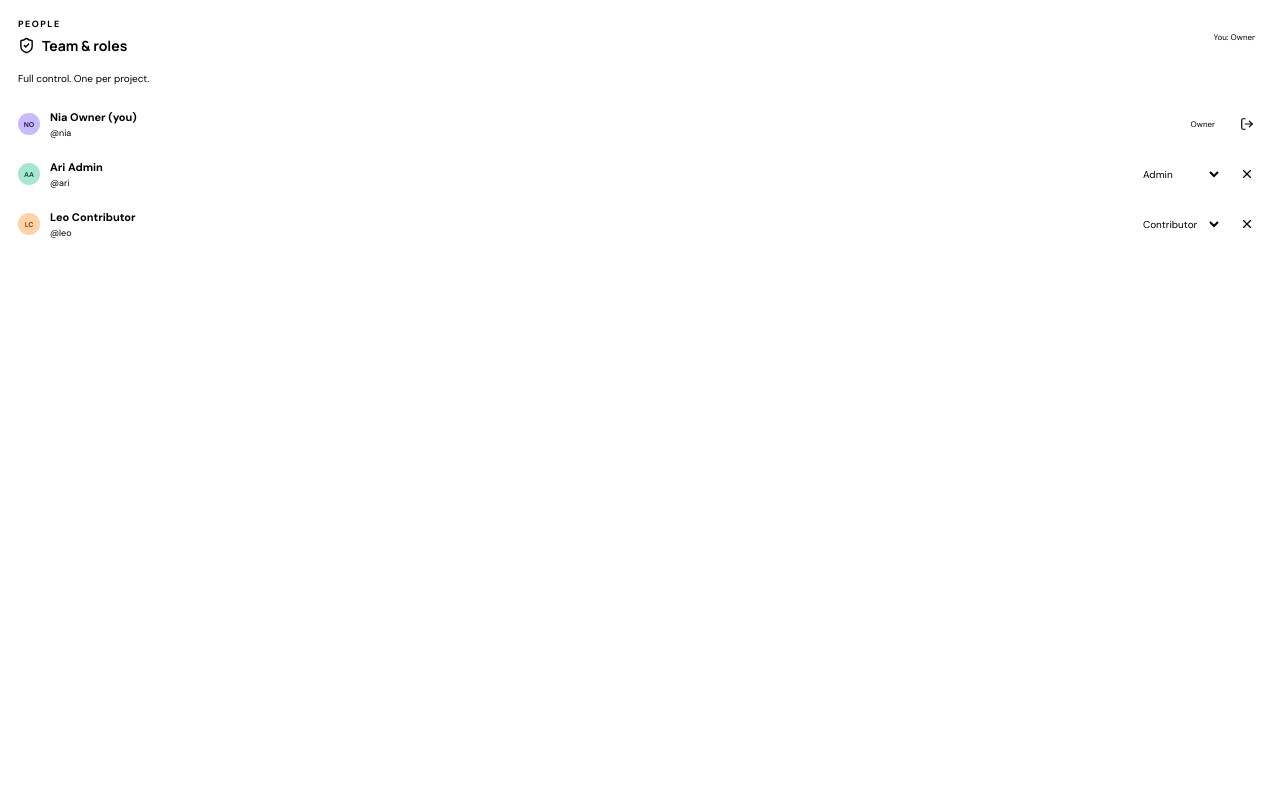
Test case: Remove a member (US-13) › asks for confirmation and does nothing when cancelled
Click the button named "Remove Leo Contributor": point(1247, 224) [1232,209,1262,239]
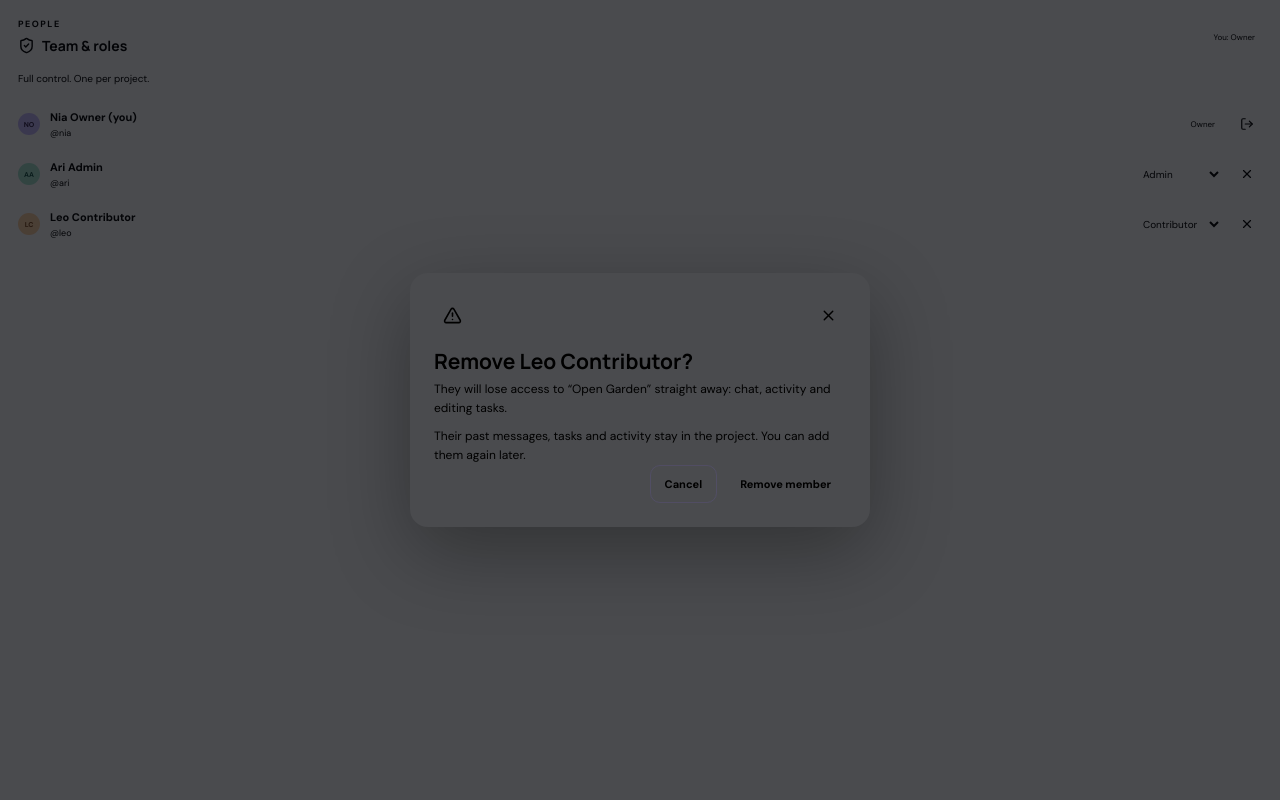
Result: the heading "Remove Leo Contributor?" is shown at [434,347,693,375]
Result: the text "Their past messages, tasks and activity stay in the project" is shown at [434,428,829,463]
Result: the text "lose access to “Open Garden” straight away" is shown at [434,380,846,418]
Click the button "Cancel": point(683, 484) [650,465,717,503]
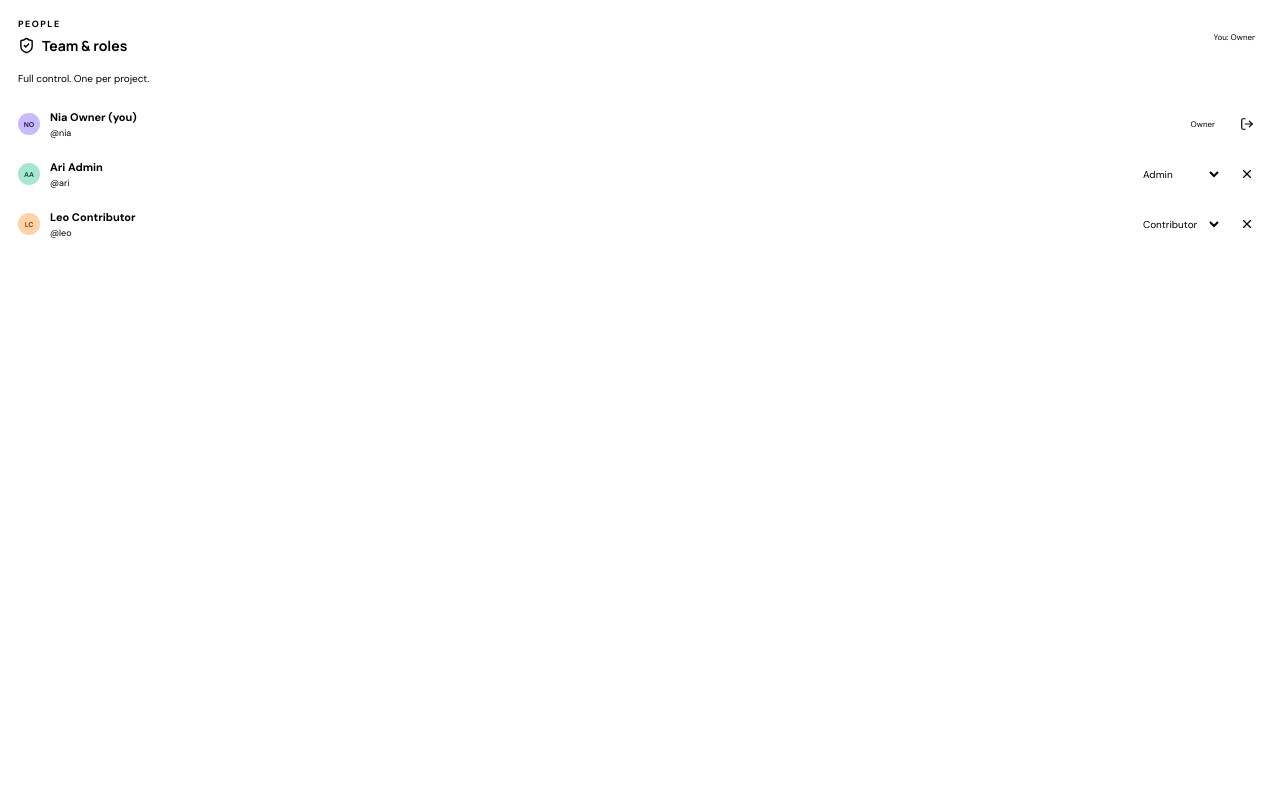
Expected: the text "Leo Contributor" is shown, [50,210,136,224]
Result: the dialog is gone
